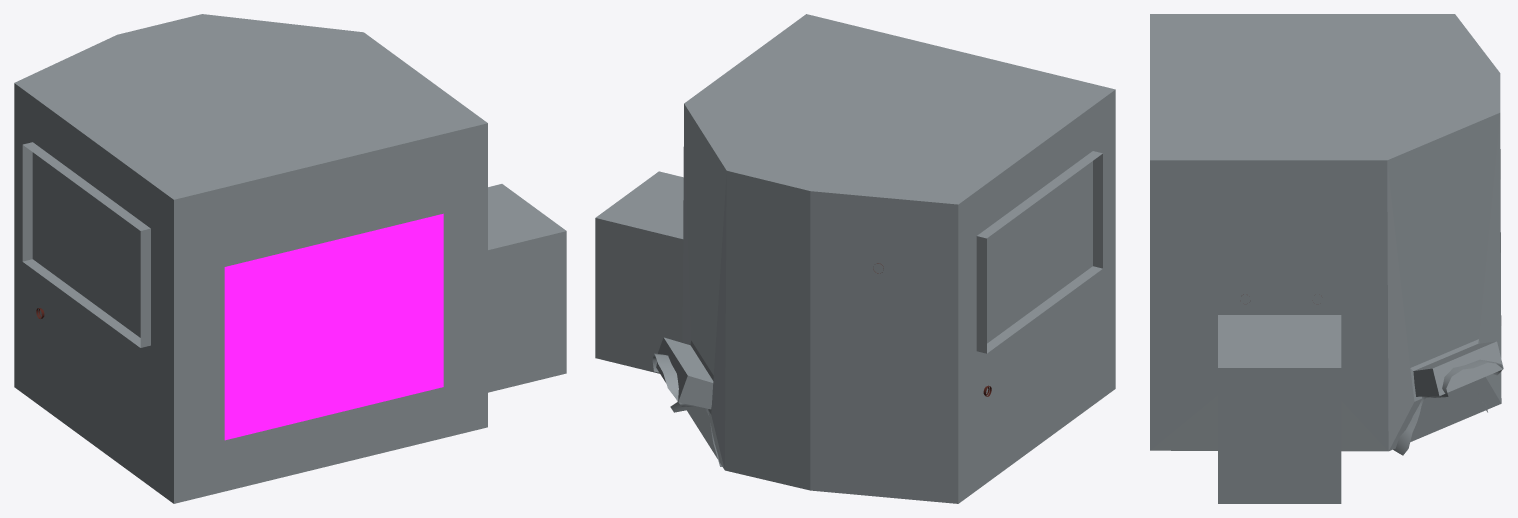
Rendered from INB306 scale v1.26.fbx.
3 views of the same model, side by side, from view 1: azimuth 30°, elevation 25°; view 2: azimuth 150°, elevation 25°; view 3: azimuth 270°, elevation 25° (orthographic). The views are drawn at different scales.
Parts seen in each view (by area): view 1: Room, Shell.001, Minimap, Main Display; view 2: Shell.001, Room, Main Display, Coal Pile; view 3: Room, Shell.001, Coal Pile.
Boxes of the visible parts, bbox=[...] form: Room: bbox=[14, 14, 566, 502]; Shell.001: bbox=[14, 83, 565, 503]; Minimap: bbox=[224, 213, 443, 440]; Main Display: bbox=[22, 142, 150, 347]; Shell.001: bbox=[597, 89, 1115, 503]; Room: bbox=[595, 14, 1115, 503]; Main Display: bbox=[976, 151, 1102, 353]; Coal Pile: bbox=[652, 353, 722, 466]; Room: bbox=[1150, 14, 1503, 503]; Shell.001: bbox=[1150, 14, 1501, 451]; Coal Pile: bbox=[1393, 359, 1502, 455].
Size of the model in its own units: 327 by 221 by 243.
